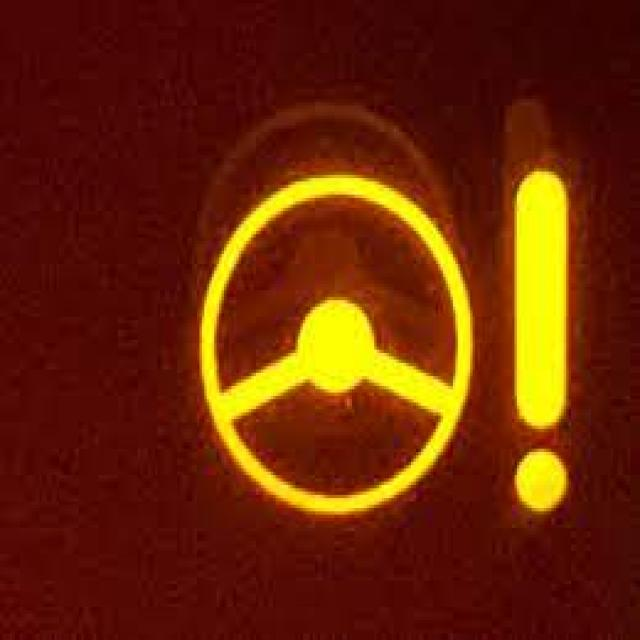kontrolka: (184, 155, 593, 534)
